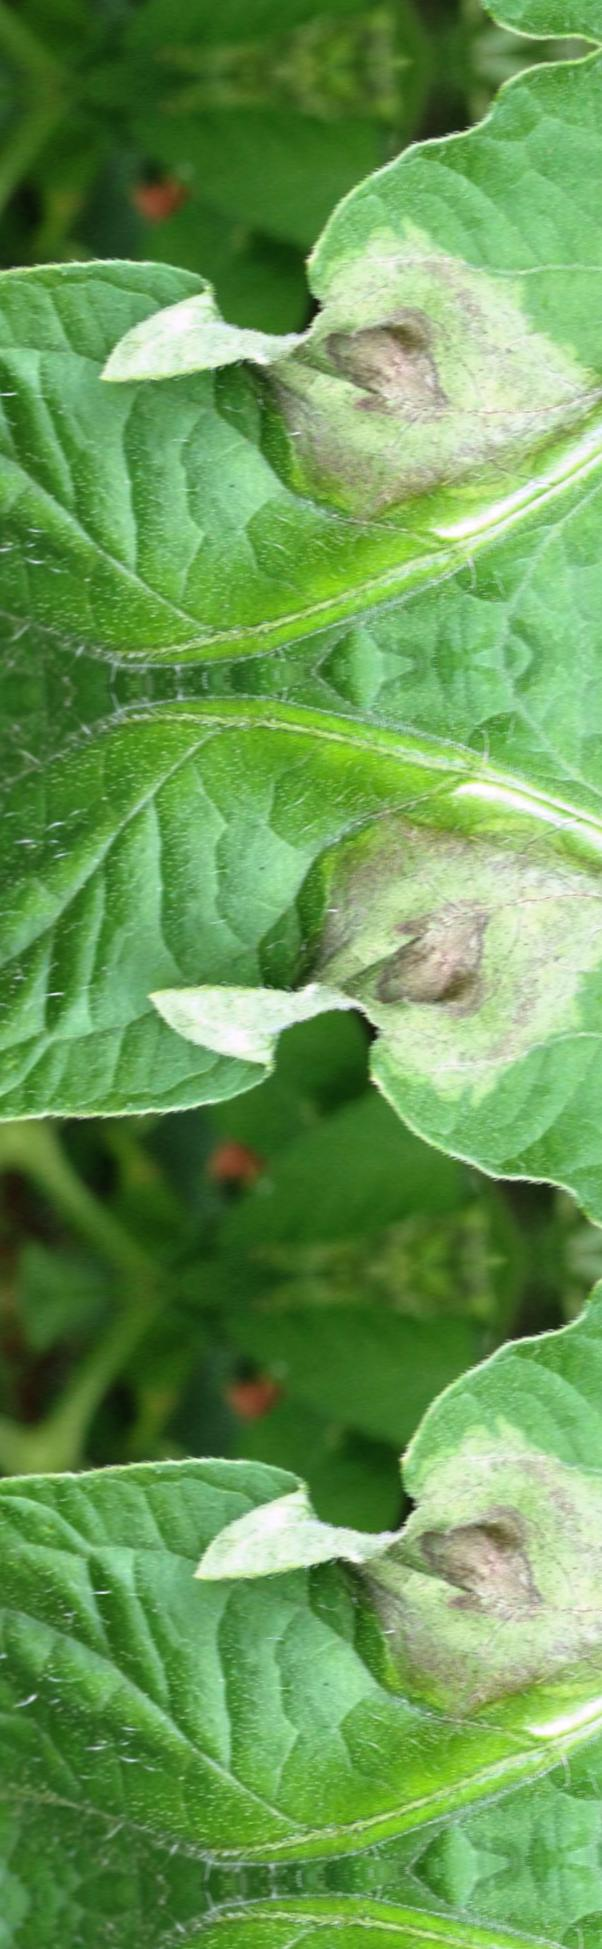Tomato leaf late blight: (0, 604, 602, 1351)
